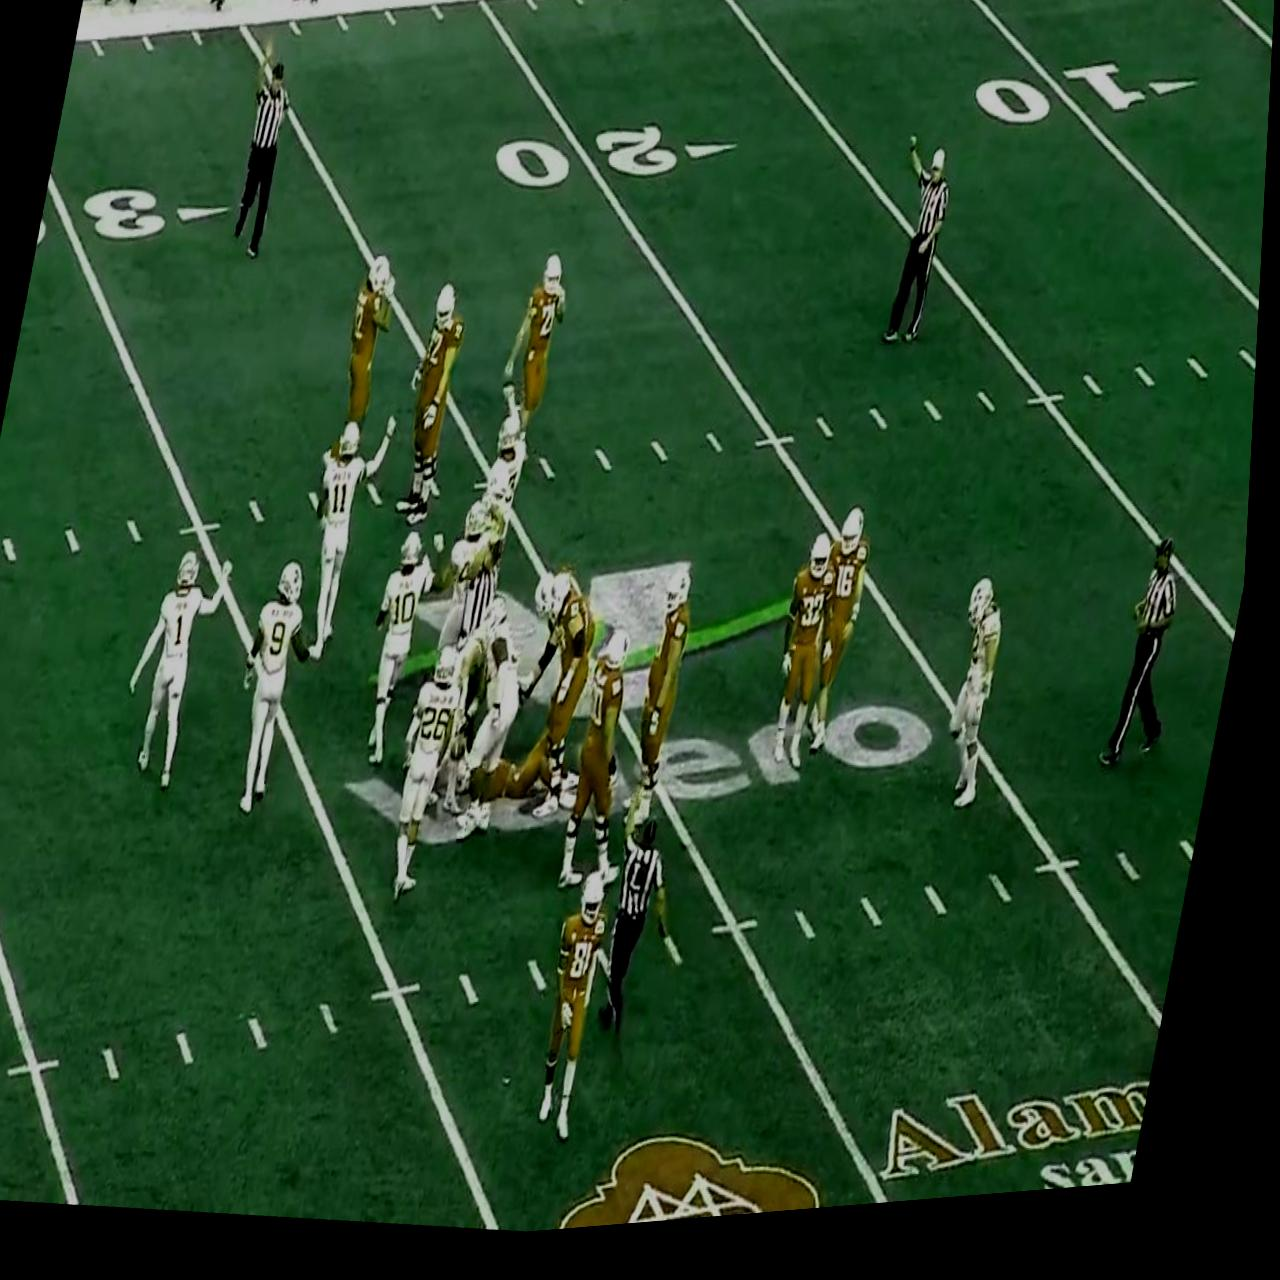10R: (967, 50, 1206, 170)
20R: (489, 108, 743, 227)
30R: (38, 172, 237, 277)
